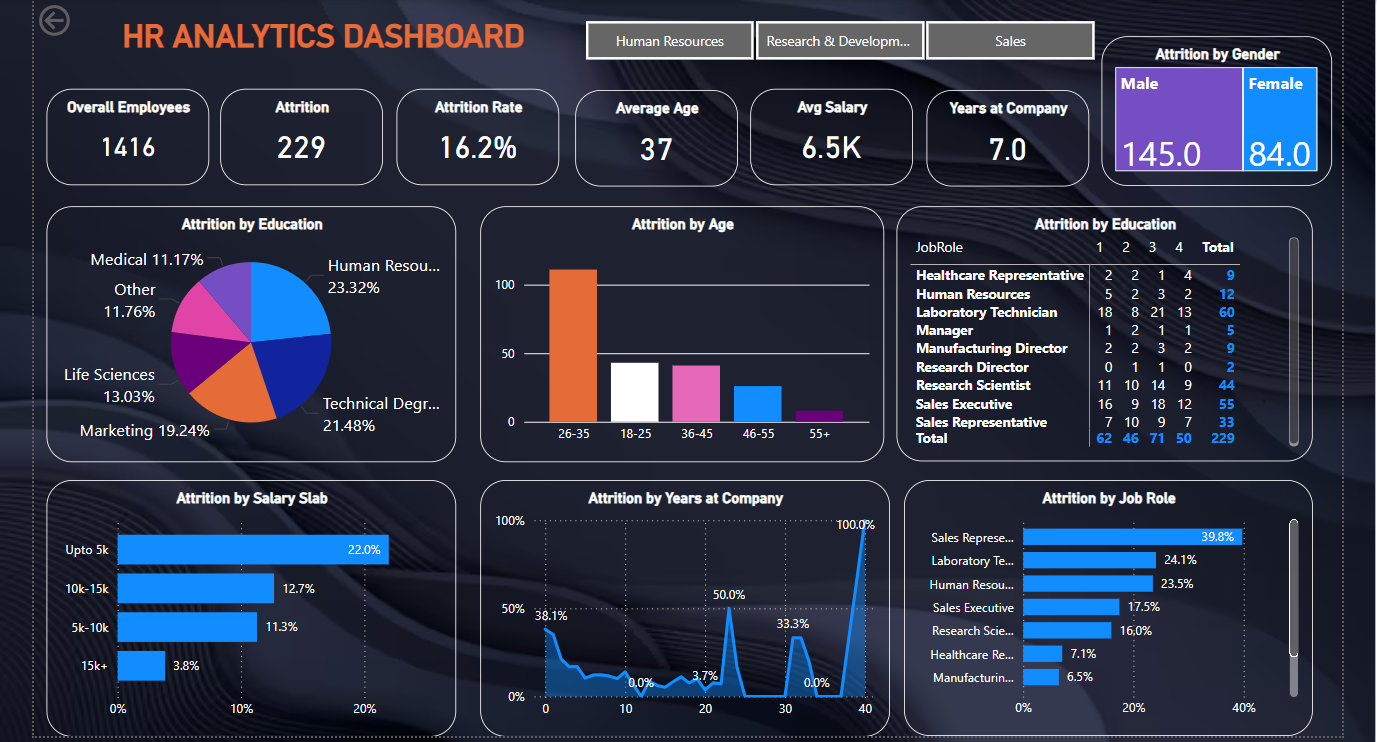

This screenshot's page, from the dashboard's own definition file:
{"tool":"powerbi","page":{"name":"Page 1","canvas":[1280,720],"ordinal":0},"visuals":[{"type":"card","title":"Overall Employees","fields":{"Values":["CountNonNull(HR_Analytics.EmpID)"]},"box":[12.3,86.4,159.2,94.7],"z":0},{"type":"card","title":"Attrition","fields":{"Values":["Sum(HR_Analytics.Attrition Count)"]},"box":[182.5,86.4,159.2,94.7],"z":1000},{"type":"card","title":"Attrition Rate","fields":{"Values":["HR_Analytics.Attrition Rate"]},"box":[354,86.4,159.2,94.7],"z":2000},{"type":"card","title":"Average Age","fields":{"Values":["Avg(HR_Analytics.Age)"]},"box":[529.7,87.8,159.2,94.7],"z":3000},{"type":"card","title":"Avg Salary","fields":{"Values":["Avg(HR_Analytics.MonthlyIncome)"]},"box":[701.2,86.4,159.2,94.7],"z":4000},{"type":"card","title":"Years at Company","fields":{"Values":["Avg(HR_Analytics.YearsAtCompany)"]},"box":[872.7,87.8,159.2,94.7],"z":5000},{"type":"treemap","title":"Attrition by Gender","fields":{"Group":["HR_Analytics.Gender"],"Values":["Sum(HR_Analytics.Attrition Count)"]},"box":[1044.7,35.1,225.3,146.3],"z":6000},{"type":"textbox","title":"HR ANALYTICS DASHBOARD","box":[0,17.6,566.3,33.7],"z":7000},{"type":"pieChart","title":"Attrition by Education","fields":{"Y":["HR_Analytics.Attrition Rate"],"Category":["HR_Analytics.EducationField"]},"box":[11.7,201.9,400.9,250.2],"z":8000},{"type":"lineClusteredColumnComboChart","title":"Attrition by Age","fields":{"Category":["HR_Analytics.AgeGroup"],"Y":["Sum(HR_Analytics.Attrition Count)"]},"box":[436,201.9,395.1,250.2],"z":9000},{"type":"pivotTable","title":"Attrition by Education","fields":{"Rows":["HR_Analytics.JobRole"],"Columns":["HR_Analytics.JobSatisfaction"],"Values":["Sum(HR_Analytics.Attrition Count)"]},"box":[843.9,201.7,407.5,249.7],"z":10000},{"type":"actionButton","box":[0,0,100,40],"z":11000},{"type":"clusteredBarChart","title":"Attrition by Salary Slab","fields":{"Y":["HR_Analytics.Attrition Rate"],"Category":["HR_Analytics.SalarySlab"]},"box":[12.3,469.3,400.7,251.1],"z":12000},{"type":"areaChart","title":"Attrition by Years at Company","fields":{"Category":["HR_Analytics.YearsAtCompany"],"Y":["HR_Analytics.Attrition Rate"]},"box":[436.4,469.3,400.7,251.1],"z":13000},{"type":"clusteredBarChart","title":"Attrition by Job Role","fields":{"Y":["HR_Analytics.Attrition Rate"],"Category":["HR_Analytics.JobRole"]},"box":[851.1,469.6,399.9,250.7],"z":14000},{"type":"slicer","fields":{"Values":["HR_Analytics.Department"]},"box":[513.2,13.7,548,52.1],"z":15000}]}

Visuals, with their boxes in screenshot pixels (x1, y1, x2, y2):
"Overall Employees" card: bbox=[45, 88, 207, 184]
"Attrition" card: bbox=[218, 88, 380, 184]
"Attrition Rate" card: bbox=[392, 88, 554, 184]
"Average Age" card: bbox=[571, 89, 733, 186]
"Avg Salary" card: bbox=[745, 88, 907, 184]
"Years at Company" card: bbox=[920, 89, 1081, 186]
"Attrition by Gender" treemap: bbox=[1094, 36, 1323, 184]
"HR ANALYTICS DASHBOARD" textbox: bbox=[32, 18, 608, 52]
"Attrition by Education" pieChart: bbox=[44, 205, 452, 460]
"Attrition by Age" lineClusteredColumnComboChart: bbox=[476, 205, 877, 460]
"Attrition by Education" pivotTable: bbox=[890, 205, 1305, 459]
actionButton: bbox=[32, 0, 134, 41]
"Attrition by Salary Slab" clusteredBarChart: bbox=[45, 477, 452, 732]
"Attrition by Years at Company" areaChart: bbox=[476, 477, 883, 732]
"Attrition by Job Role" clusteredBarChart: bbox=[898, 477, 1304, 732]
slicer - HR_Analytics.Department: bbox=[554, 14, 1111, 67]
